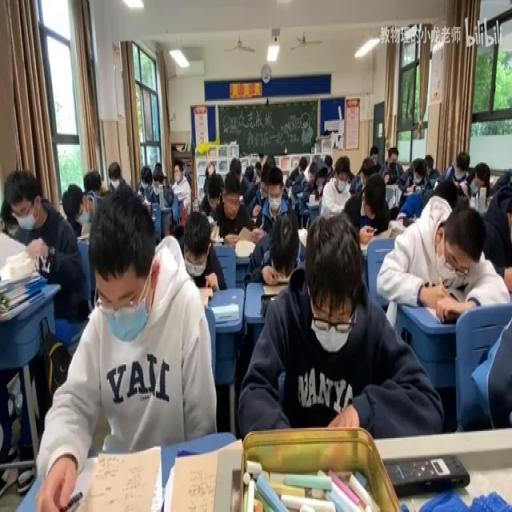calculator: (0, 232, 52, 323), (163, 448, 227, 512), (419, 296, 490, 323), (210, 300, 238, 322), (234, 238, 256, 256), (371, 226, 397, 240), (197, 286, 213, 307), (262, 283, 286, 294), (296, 224, 307, 248), (358, 240, 372, 254), (210, 224, 219, 240), (76, 230, 90, 240), (384, 180, 397, 190), (142, 194, 151, 208), (307, 196, 320, 205), (283, 184, 292, 196), (206, 216, 216, 225), (296, 191, 306, 199)
paper: (34, 188, 212, 509), (240, 212, 438, 437), (467, 290, 512, 430), (246, 208, 302, 288), (181, 209, 226, 292), (343, 171, 392, 239), (480, 171, 512, 270), (394, 163, 439, 222), (244, 156, 271, 219), (170, 159, 192, 229), (198, 168, 224, 219), (60, 185, 82, 229), (382, 145, 404, 186), (430, 179, 460, 209), (445, 151, 470, 186), (84, 168, 107, 202), (286, 153, 308, 185), (0, 199, 18, 234), (107, 159, 123, 192), (334, 156, 350, 182), (152, 162, 166, 189), (320, 155, 334, 179), (160, 182, 173, 206), (361, 165, 374, 186), (412, 166, 426, 185), (315, 172, 328, 192), (475, 172, 488, 191), (305, 160, 315, 184), (424, 154, 434, 174), (264, 154, 275, 172), (387, 206, 399, 222), (232, 168, 242, 185), (141, 174, 152, 189), (369, 145, 378, 162), (206, 161, 216, 176), (182, 168, 190, 183), (254, 163, 261, 175)
person: (384, 452, 470, 495), (259, 292, 278, 314), (402, 214, 415, 224)
